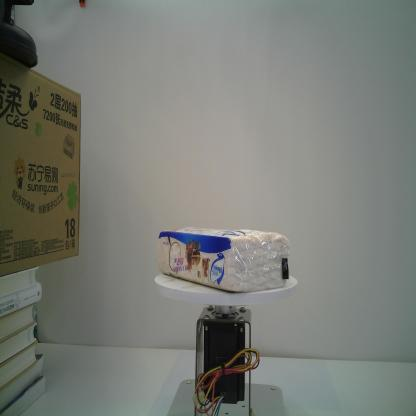Tissue: (154, 225, 292, 294)
